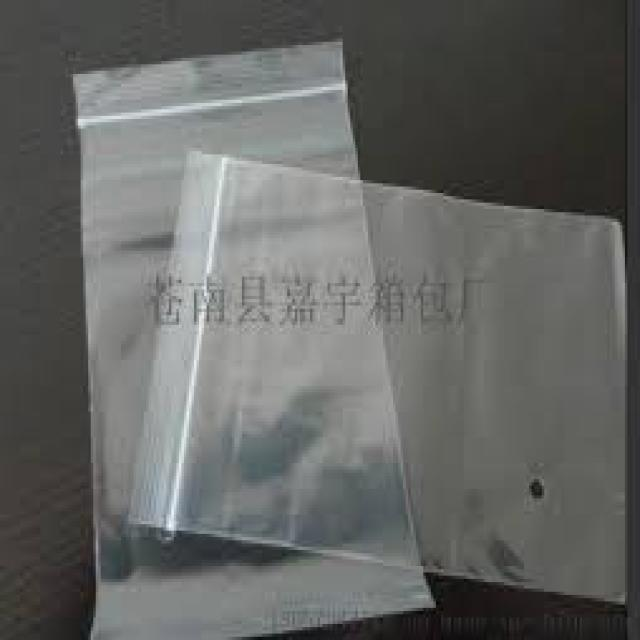plastic: (124, 145, 628, 605), (71, 35, 434, 637)
